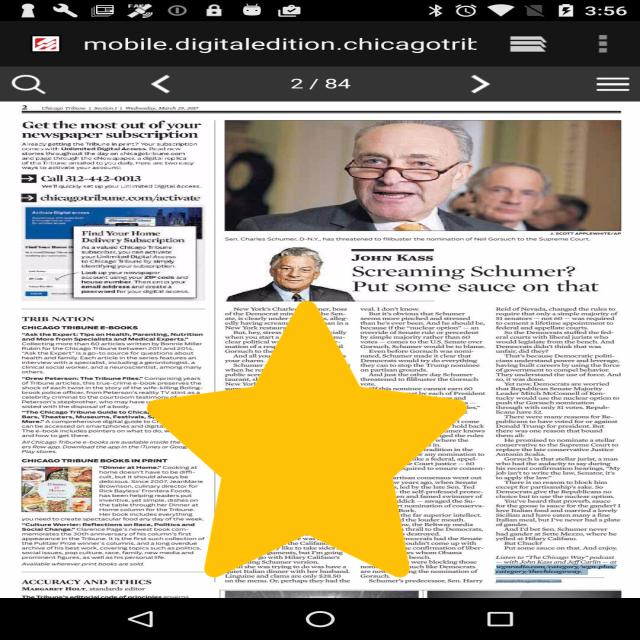forced continuity: (147, 300, 467, 578)
